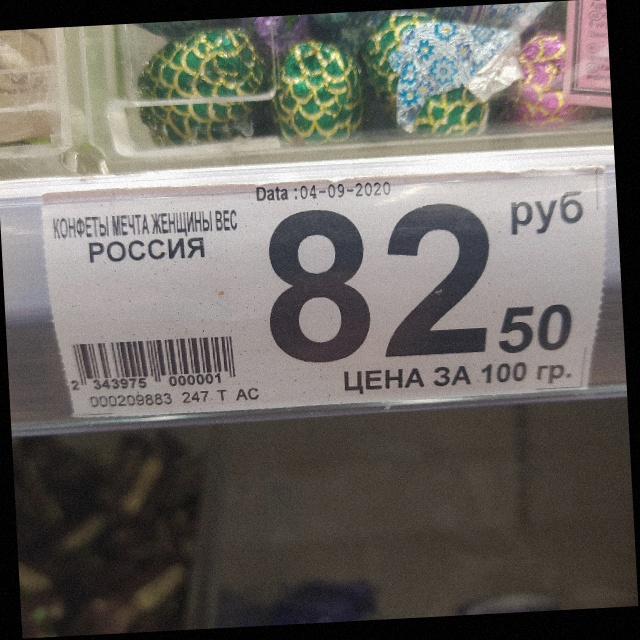barcode: (68, 334, 238, 395)
name: (52, 208, 242, 265)
price: (269, 203, 573, 367)
price_tag: (39, 167, 606, 420)
